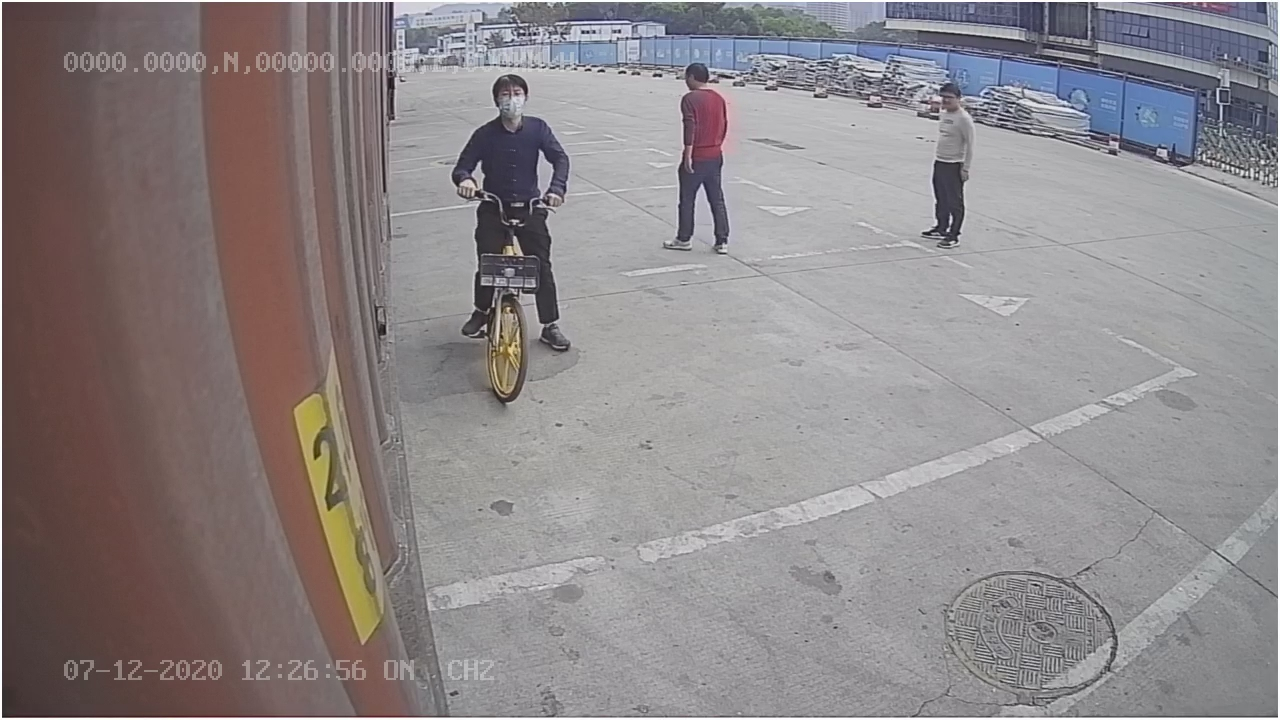person: (653, 60, 735, 258)
